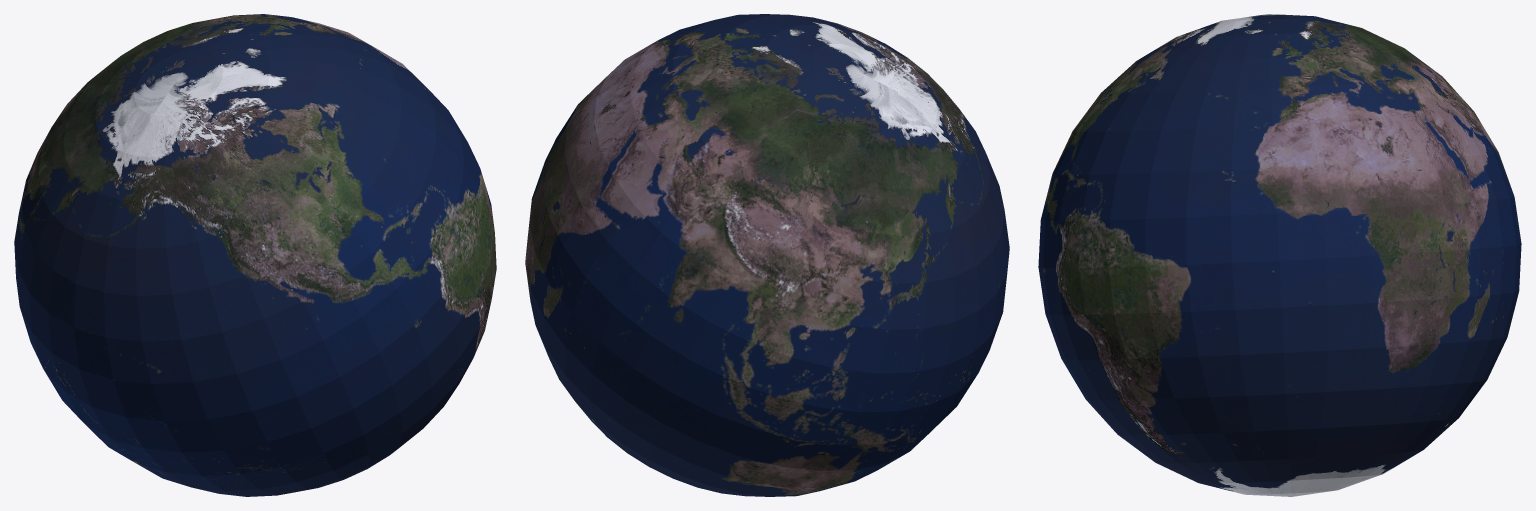
Rendered from earth.obj.
3 renders of one model, left to right at view 1: azimuth 30°, elevation 25°; view 2: azimuth 150°, elevation 25°; view 3: azimuth 270°, elevation 25°, orthographic.
Parts seen in each view (by area): view 1: Sphere; view 2: Sphere; view 3: Sphere.
Part boxes in pixels (bbox=[...]): Sphere: bbox=[14, 14, 496, 496]; Sphere: bbox=[525, 14, 1009, 496]; Sphere: bbox=[1038, 14, 1521, 496].
Bounding box in the file's own units: 2 × 2 × 2.
Materials: 1 (1 with a texture image).
